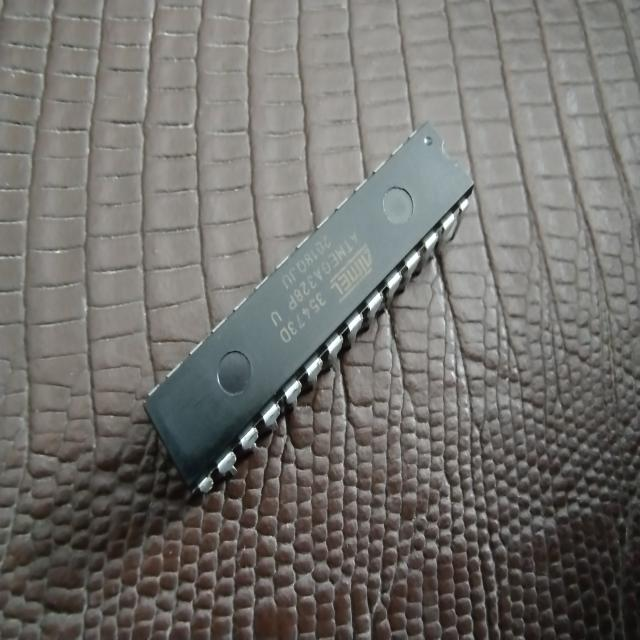atmega: (141, 118, 476, 499)
